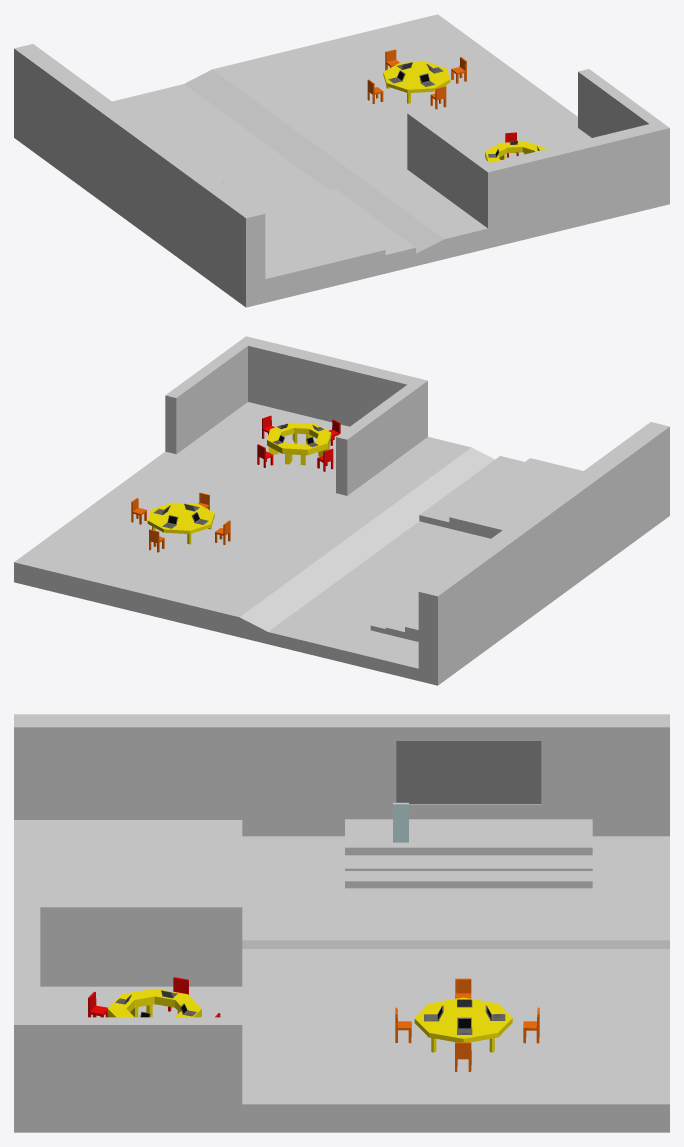
File: Academia Corporativa de Inovação Ágil.fbx
3 renders of one model, top to bottom at view 1: azimuth 30°, elevation 25°; view 2: azimuth 150°, elevation 25°; view 3: azimuth 270°, elevation 25°, orthographic. The views are drawn at different scales.
Visible parts, largest first — view 1: Plane, Cylinder.001, Cylinder; view 2: Plane, Cylinder, Cylinder.001; view 3: Plane, Cylinder.001, Cylinder, Cube.008.
Part boxes in pixels (left/top/right/bottom): Plane: left=14, top=14, right=669, bottom=307; Cylinder.001: left=383, top=61, right=450, bottom=103; Cylinder: left=485, top=141, right=546, bottom=162; Plane: left=14, top=336, right=669, bottom=685; Cylinder: left=267, top=422, right=331, bottom=465; Cylinder.001: left=147, top=502, right=214, bottom=544; Plane: left=14, top=714, right=669, bottom=1132; Cylinder.001: left=414, top=997, right=512, bottom=1052; Cylinder: left=107, top=988, right=201, bottom=1017; Cube.008: left=393, top=802, right=408, bottom=842.
Size of the model in its own units: 8563 by 1724 by 8121.
